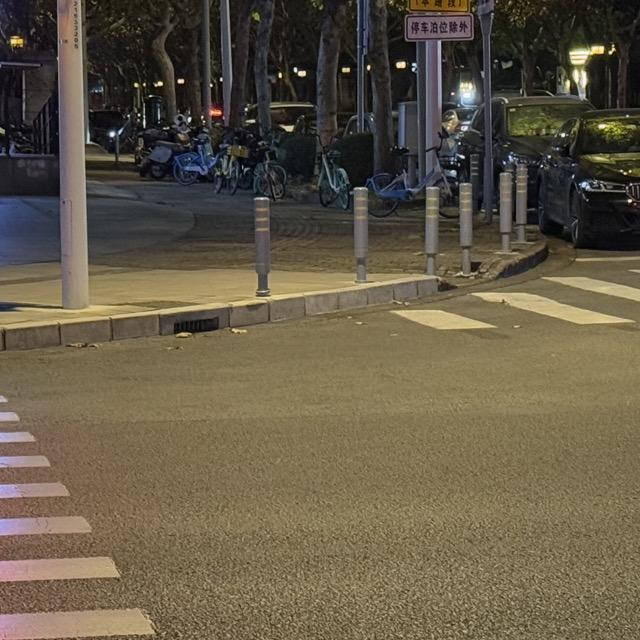curb: (0, 277, 452, 351), (495, 245, 547, 278)
